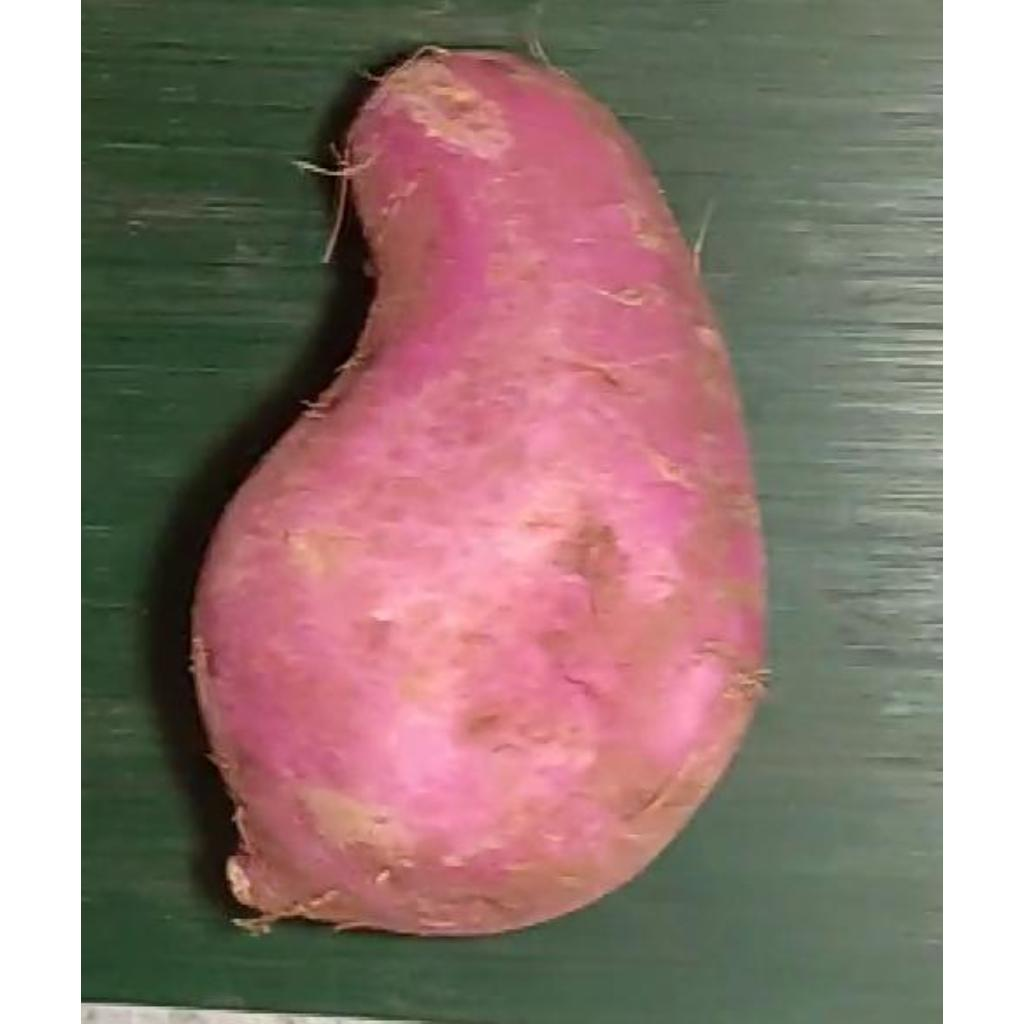Sweet Potato: (188, 46, 768, 938)
